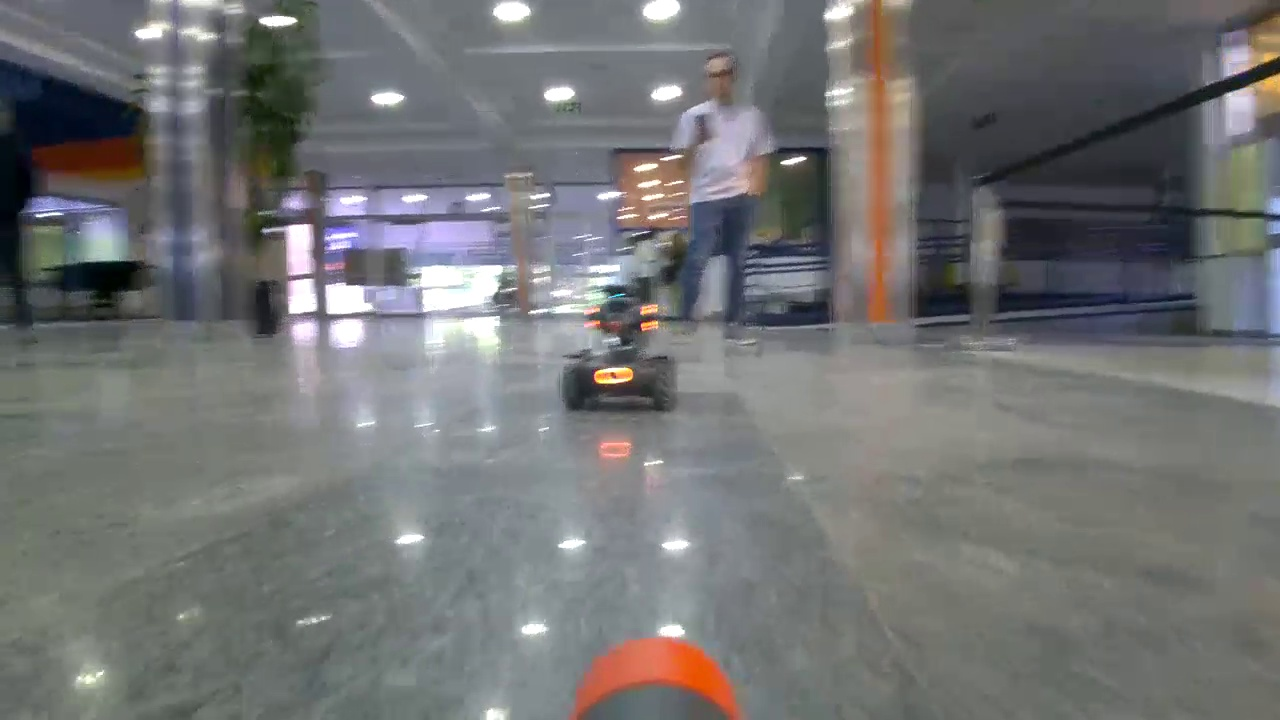robot: (561, 290, 677, 408)
